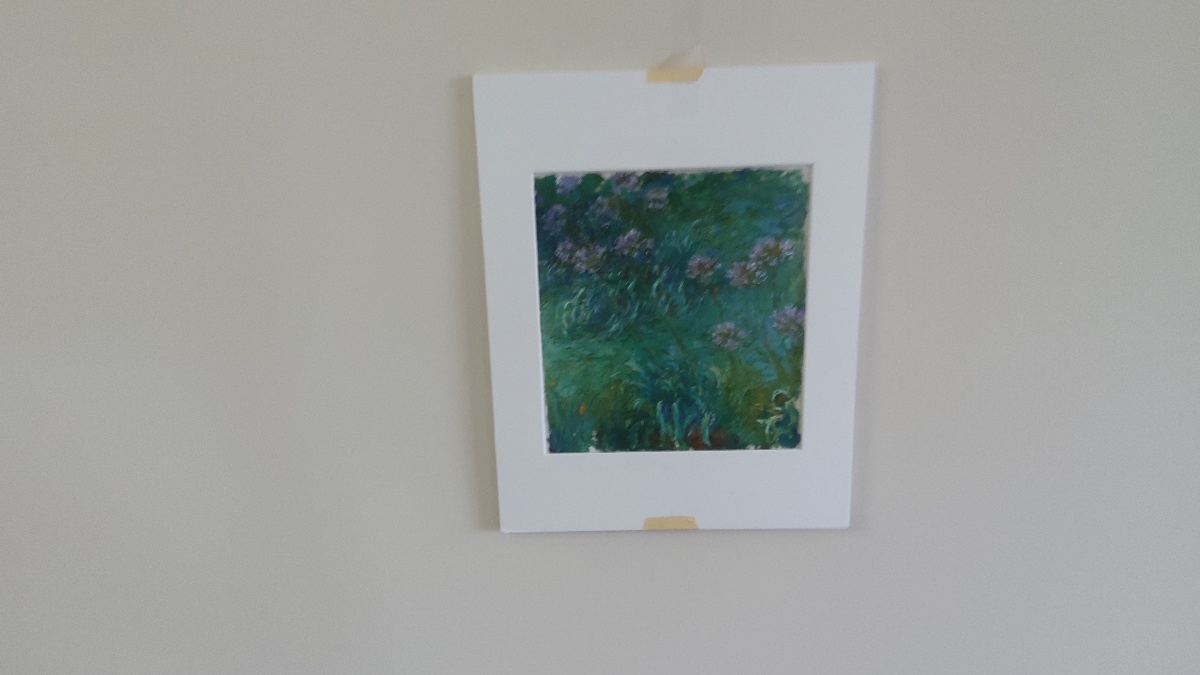painting: (524, 155, 818, 468)
